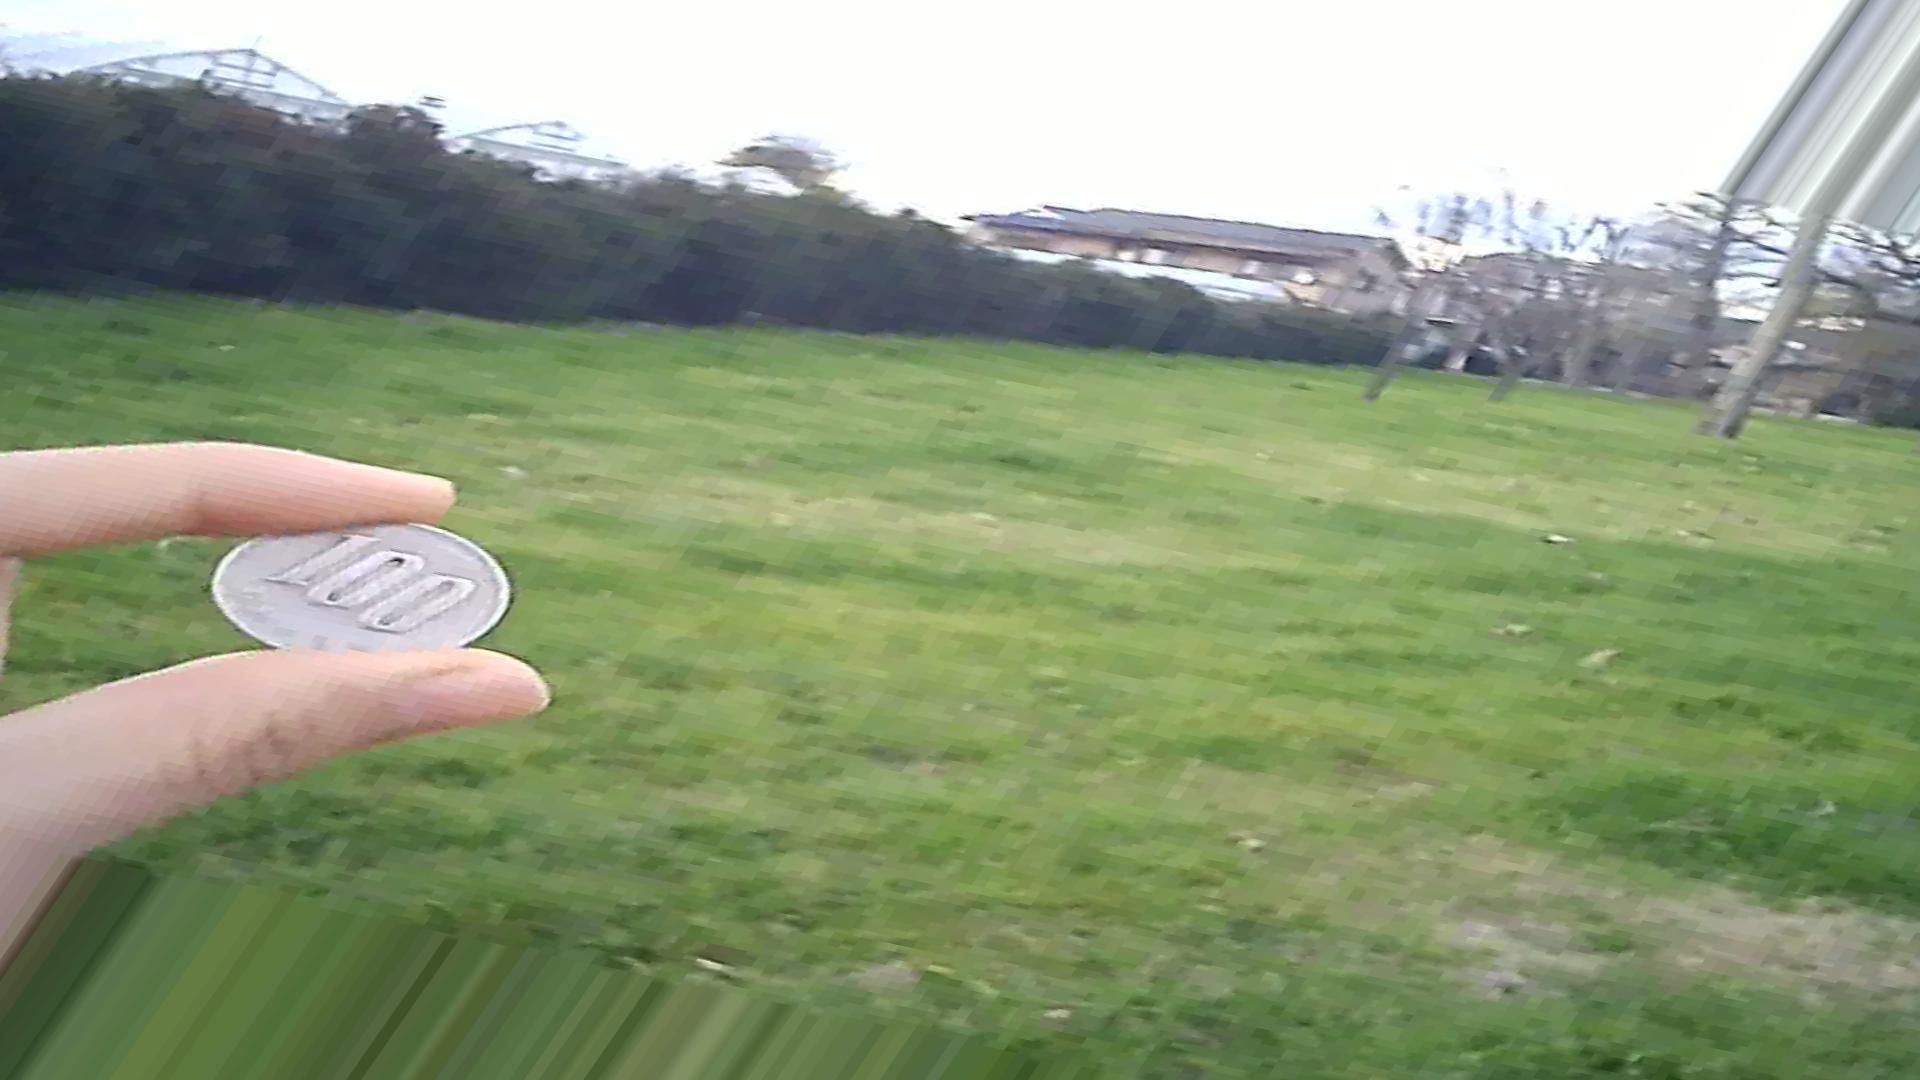100 Yen: (204, 506, 541, 684)
